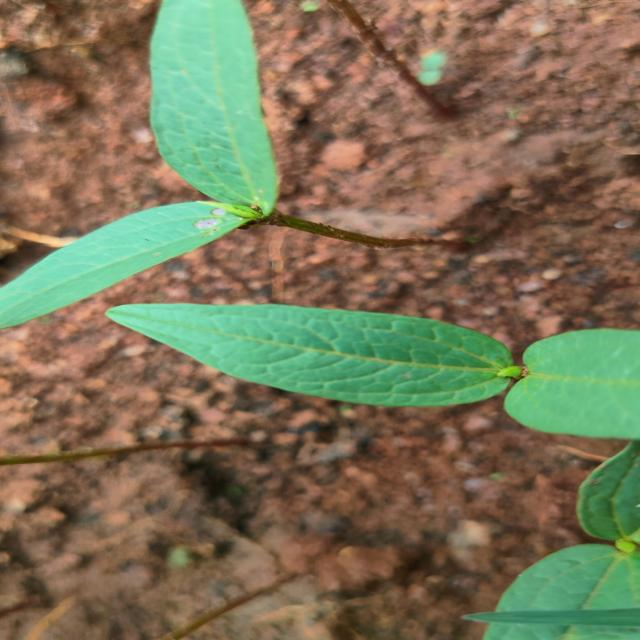Black gram_healthy: (108, 301, 516, 408), (0, 198, 250, 341), (148, 1, 284, 212)
